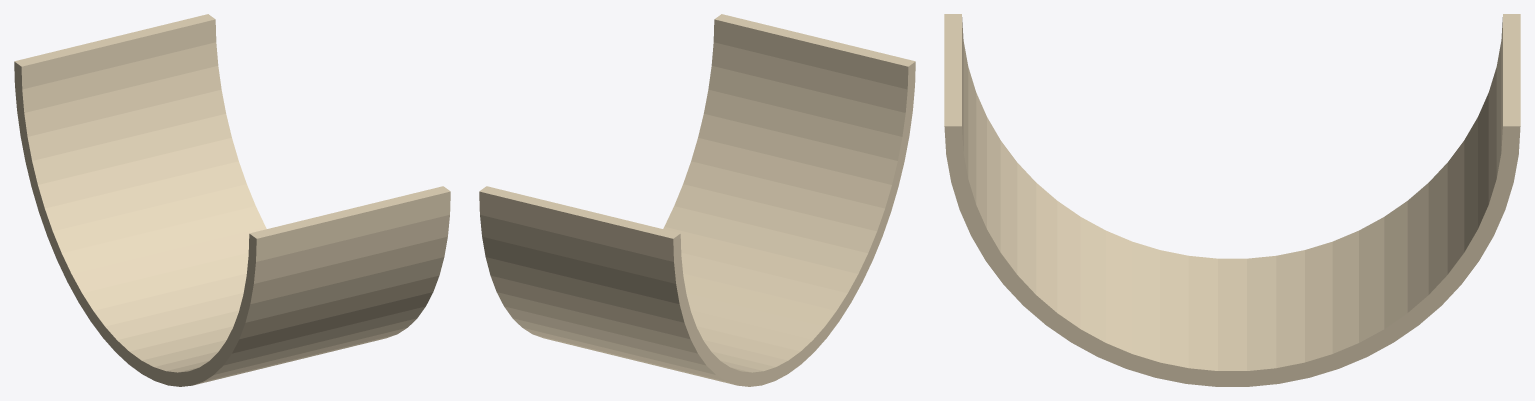
File: main-bearing-lower.glb
3 views of the same model, side by side, from view 1: azimuth 30°, elevation 25°; view 2: azimuth 150°, elevation 25°; view 3: azimuth 270°, elevation 25° (orthographic). The views are drawn at different scales.
Visible parts, largest first — view 1: world; view 2: world; view 3: world.
Boxes of the visible parts, x1,y1,x2,y2 form: world: (14, 14, 450, 386); world: (479, 14, 915, 386); world: (944, 14, 1520, 386).
Bounding box in the file's own units: 0.03 × 0.0324 × 0.0649.
